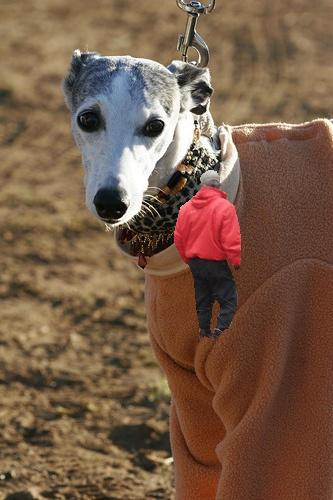tampered: (175, 171, 241, 343)
